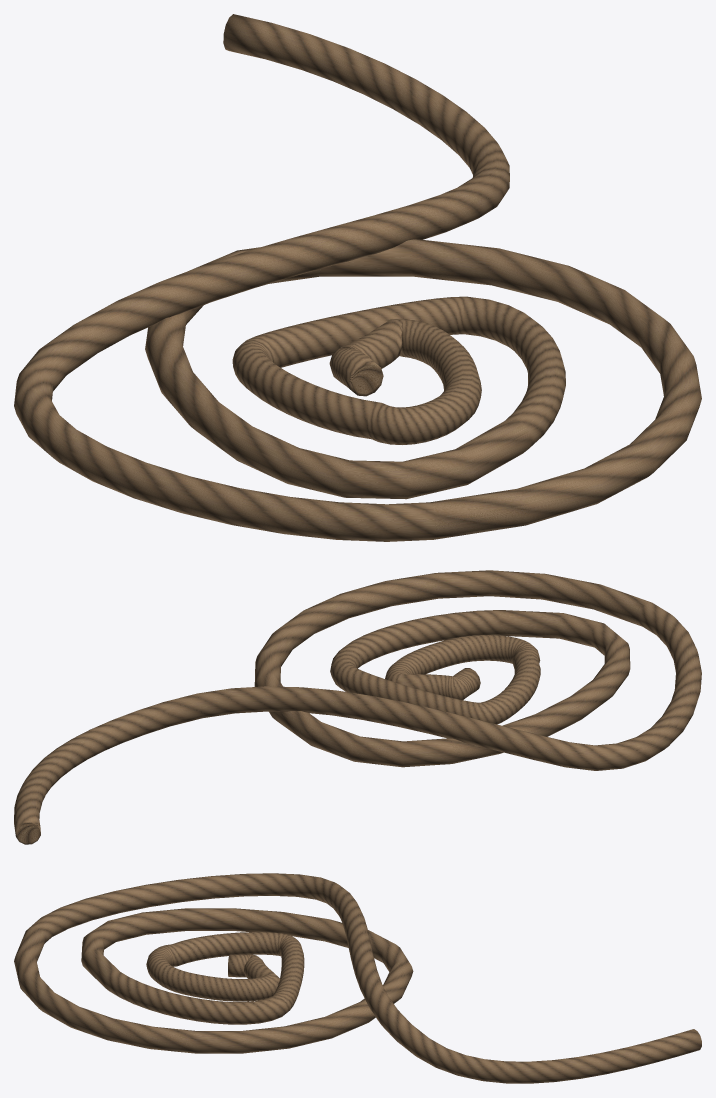
File: corde.fbx
3 renders of one model, top to bottom at view 1: azimuth 30°, elevation 25°; view 2: azimuth 150°, elevation 25°; view 3: azimuth 270°, elevation 25°, orthographic. The views are drawn at different scales.
Visible parts, largest first — view 1: corde; view 2: corde; view 3: corde.
Boxes of the visible parts, left/top/right/bottom form: corde: left=14, top=14, right=701, bottom=541; corde: left=14, top=570, right=701, bottom=844; corde: left=14, top=873, right=701, bottom=1083.
Bounding box in the file's own units: 40.14 × 4.6 × 60.63.
1 material, 1 textured.
